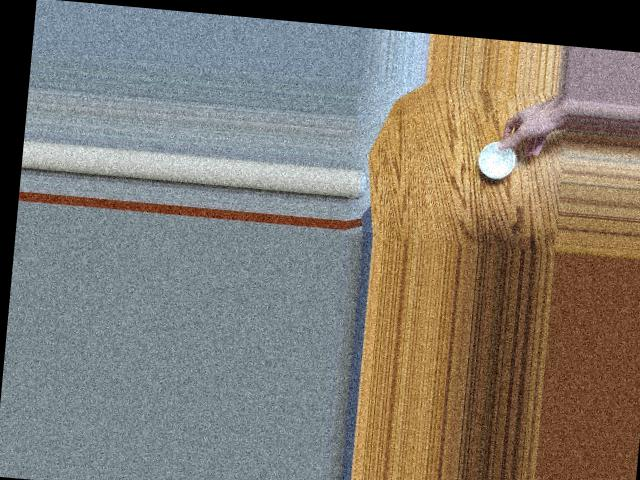cotage: (473, 139, 517, 180)
